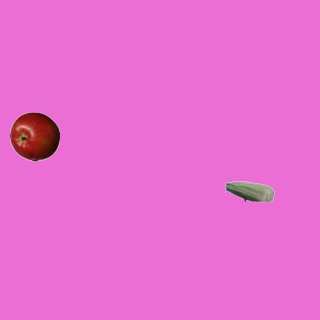Apple Braeburn: (9, 111, 59, 161)
Corn Husk: (224, 166, 274, 216)
